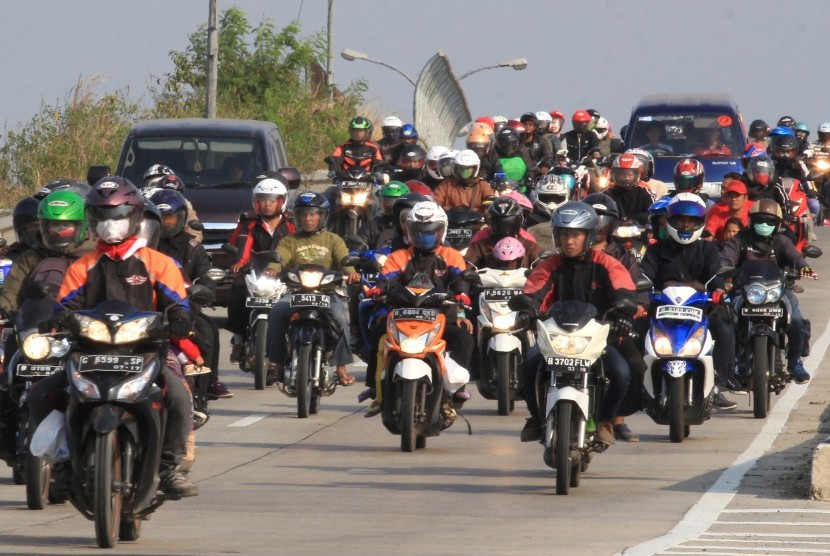plate: (81, 354, 141, 375), (291, 293, 331, 309), (547, 357, 589, 369), (392, 308, 434, 320)
